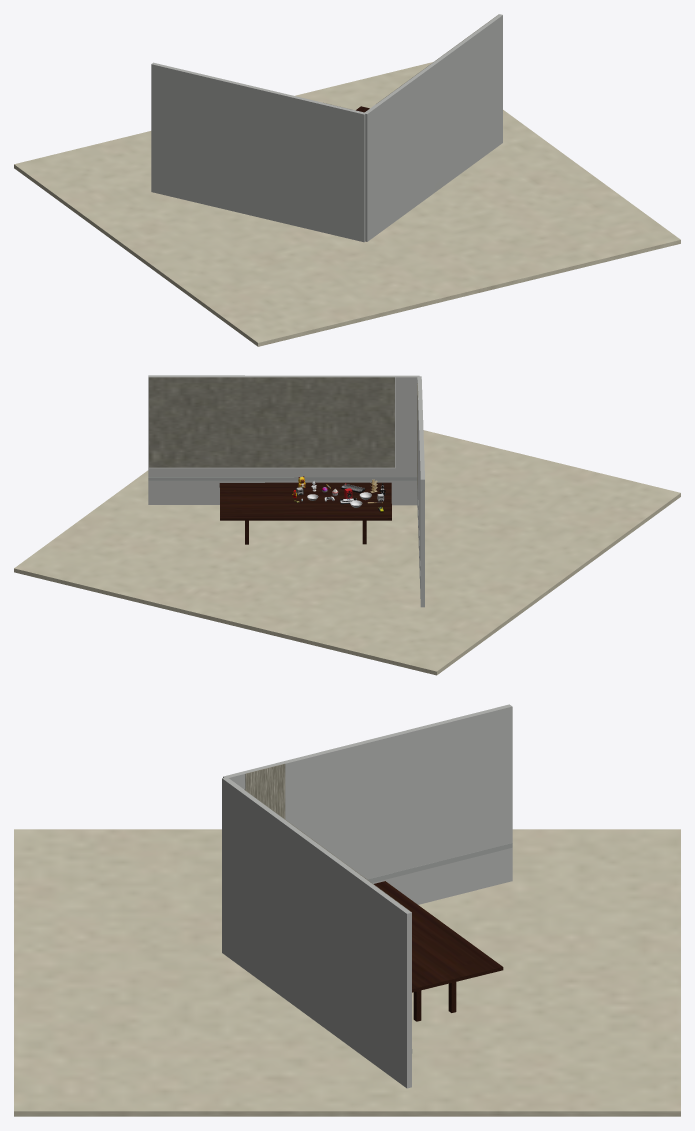
The model's file is ours.glb.
3 renders of one model, top to bottom at view 1: azimuth 30°, elevation 25°; view 2: azimuth 150°, elevation 25°; view 3: azimuth 270°, elevation 25°, orthographic. The views are drawn at different scales.
Visible parts, largest first — view 1: floor_0, wall_1, wall_0; view 2: floor_0, wall_0_panel, wall_0, table_0, wall_1, wall_0_lower_band, wall_0_lower_trim; view 3: floor_0, wall_0, wall_1, table_0, wall_1_panel, wall_1_lower_band.
Boxes of the visible parts, x1,y1,x2,y2 form: floor_0: (14,62,680,346); wall_1: (151,62,365,242); wall_0: (364,14,502,241); floor_0: (14,430,680,675); wall_0_panel: (149,377,394,467); wall_0: (148,375,419,505); table_0: (219,482,391,544); wall_1: (417,376,424,607); wall_0_lower_band: (148,477,417,480); wall_0_lower_trim: (149,467,395,468); floor_0: (14,829,680,1116); wall_0: (222,777,411,1088); wall_1: (223,704,512,904); table_0: (374,881,503,1021); wall_1_panel: (245,763,285,818); wall_1_lower_band: (367,843,512,882).
Size of the model in its own units: 9 by 2.68 by 9.
Materials: 32 (32 with a texture image).
